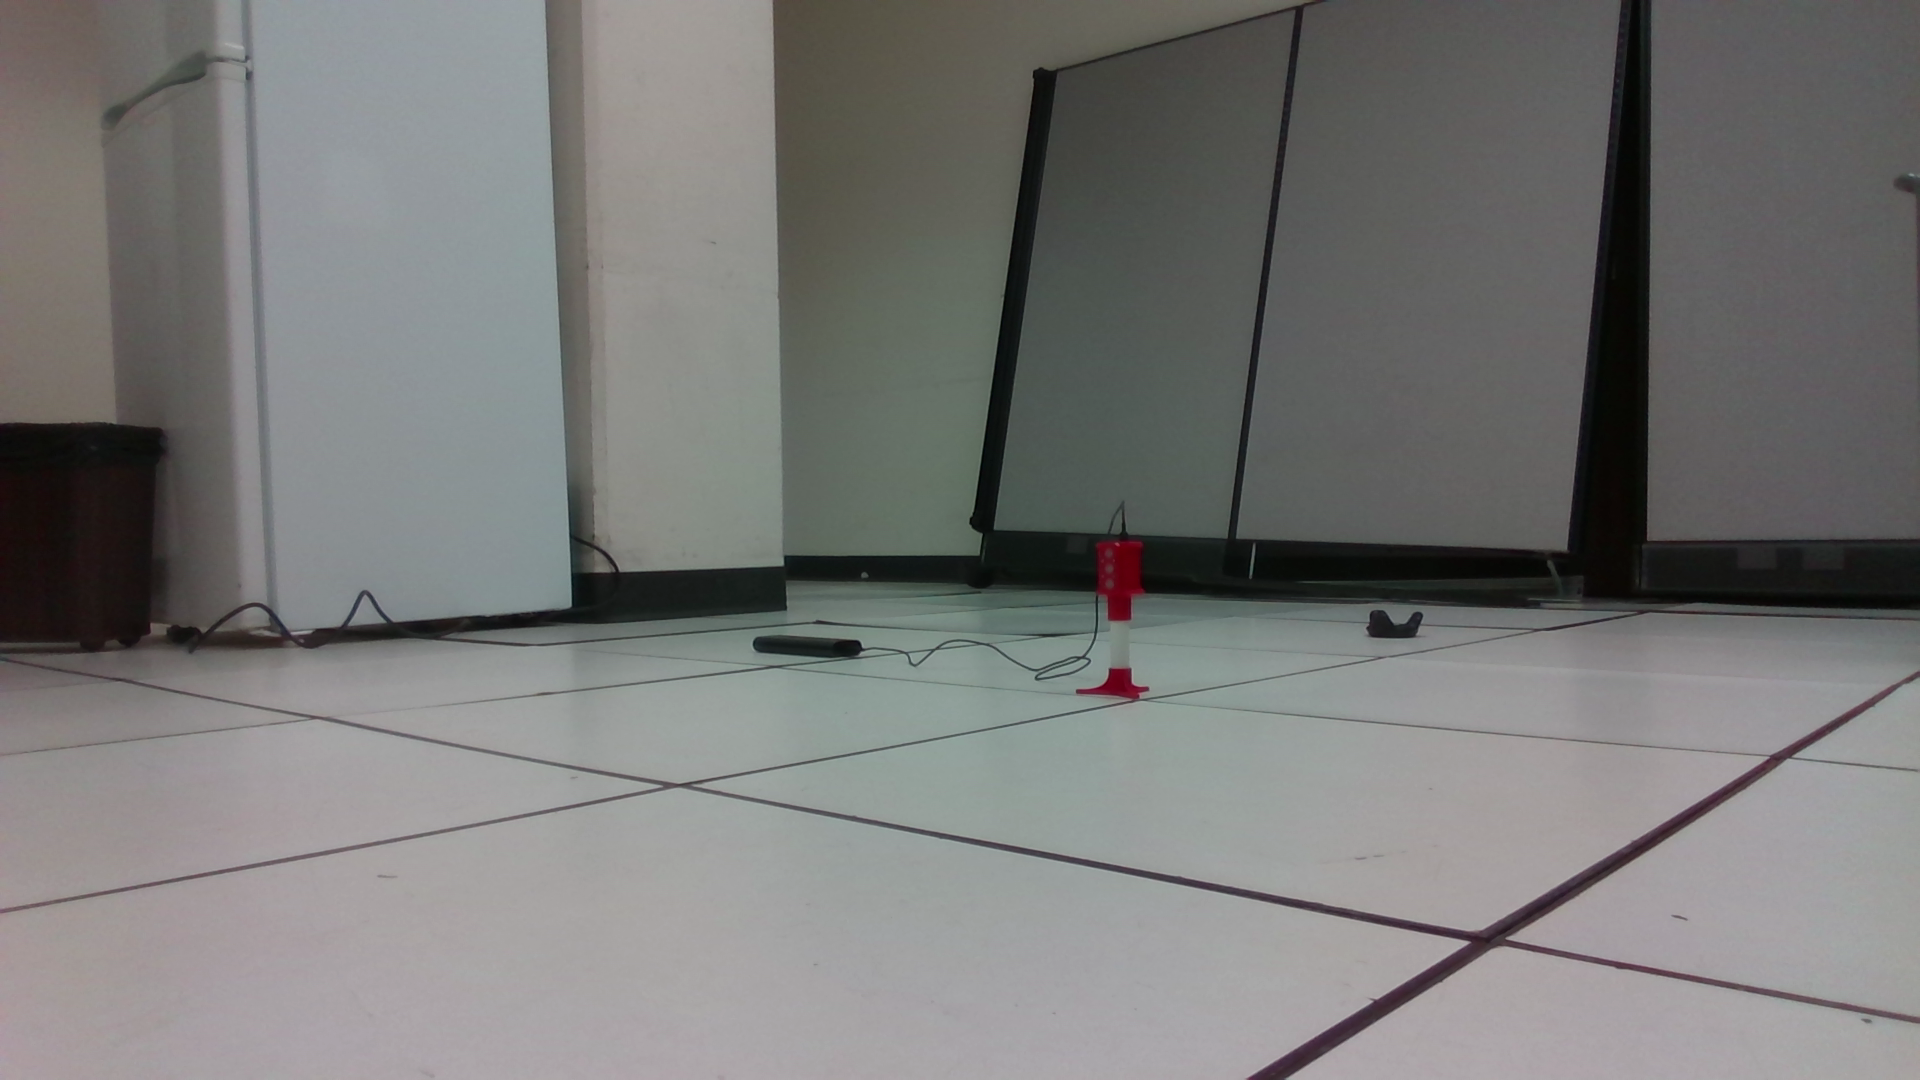stoplight: (1092, 537, 1143, 622)
